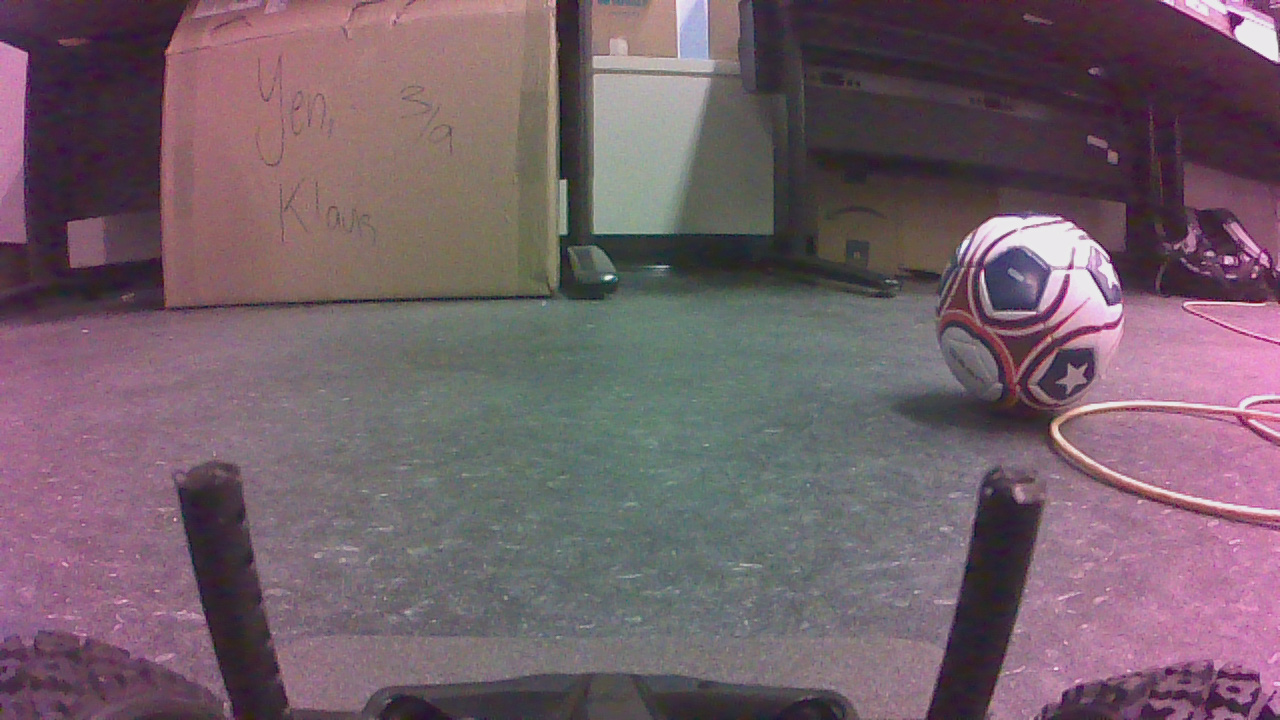ball: (939, 216, 1128, 426)
